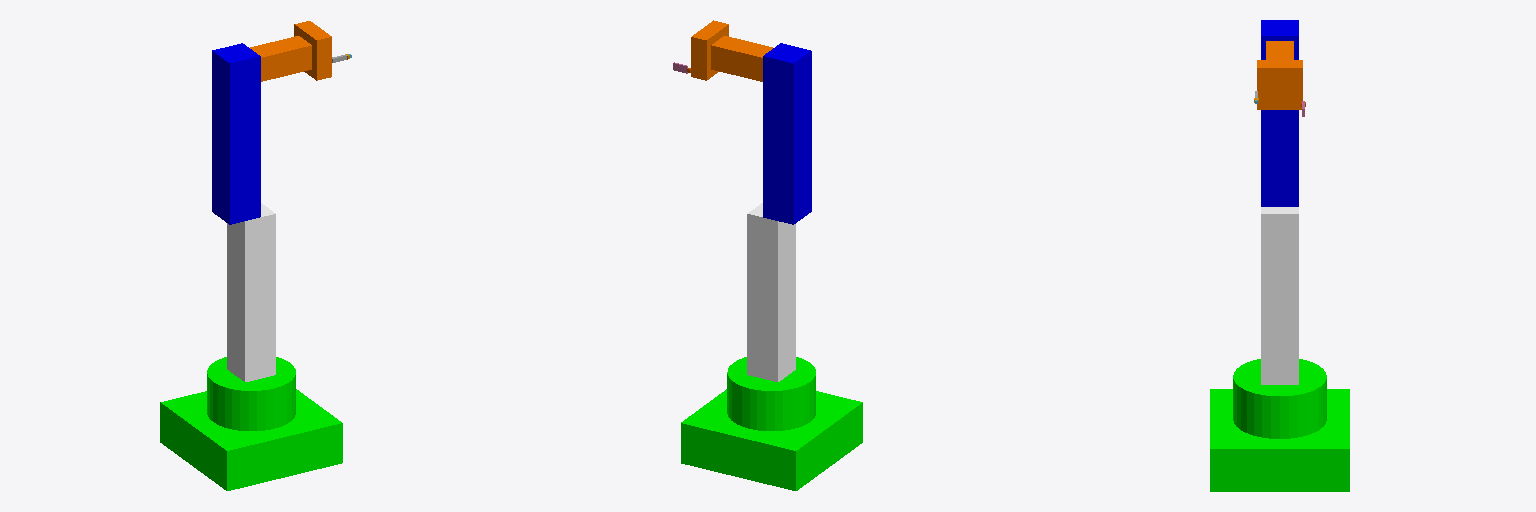
The robot description file, URDF, robot "robot":
<?xml version='1.0' encoding='utf-8'?>
<robot name="robot">
  <link name="base_link">
    <visual>
      <origin xyz="0 0 0.125" rpy="0 0 0" />
      <geometry>
        <box size="0.75 0.75 0.25" />
      </geometry>
      <material name="green" />
    </visual>
    <visual>
      <origin xyz="0 0 0.375" rpy="0 0 0" />
      <geometry>
        <cylinder length="0.25" radius="0.25" />
      </geometry>
      <material name="green">
        <color rgba="0 1 0 1" />
      </material>
    </visual>
    <collision>
      <geometry>
        <box size="0.75 0.75 0.5" />
      </geometry>
    </collision>
    <inertial>
      <mass value="0.5" />
      <inertia ixx="0.034" ixy="0.0" ixz="0.0" iyy="0.034" iyz="0.0" izz="0.034" />
    </inertial>
  </link>
  <link name="support_link">
    <visual>
      <origin xyz="0 0 0.5" rpy="0 0 0" />
      <geometry>
        <box size="0.2 0.2 1" />
      </geometry>
      <material name="white">
        <color rgba="1 1 1 1" />
      </material>
    </visual>
    <collision>
      <geometry>
        <box size="0.2 0.2 1" />
      </geometry>
    </collision>
    <inertial>
      <mass value="0.1" />
      <inertia ixx="0.01" ixy="0.0" ixz="0.0" iyy="0.01" iyz="0.0" izz="0.01" />
    </inertial>
  </link>
  <joint name="support_joint" type="continuous">
    <origin xyz="0 0 0.5" rpy="0 0 0" />
    <parent link="base_link" />
    <child link="support_link" />
    <axis xyz="0 0 1" />
  </joint>
  <link name="arm_link">
    <visual>
      <origin xyz="0 0 0.5" rpy="0 0 0" />
      <geometry>
        <box size="0.2 0.2 1" />
      </geometry>
      <material name="blue">
        <color rgba="0 0 1 1" />
      </material>
    </visual>
    <collision>
      <geometry>
        <box size="0.2 0.2 1" />
      </geometry>
    </collision>
    <inertial>
      <mass value="0.1" />
      <inertia ixx="0.01" ixy="0.0" ixz="0.0" iyy="0.01" iyz="0.0" izz="0.01" />
    </inertial>
  </link>
  <joint name="arm_joint" type="revolute">
    <origin xyz="-0.1 0 1" rpy="0 0 0" />
    <parent link="support_link" />
    <child link="arm_link" />
    <axis xyz="0 1 0" />
    <limit lower="-3.14" upper="3.14" effort="1.0" velocity="1.0" />
  </joint>
  <link name="wrist_link">
    <visual>
      <origin xyz="0 0 0.25" rpy="0 0 0" />
      <geometry>
        <box size="0.15 0.15 0.5" />
      </geometry>
      <material name="orange">
        <color rgba="1 0.5 0 1" />
      </material>
    </visual>
    <collision>
      <geometry>
        <box size="0.15 0.15 0.5" />
      </geometry>
    </collision>
    <inertial>
      <mass value="0.1" />
      <inertia ixx="0.01" ixy="0.0" ixz="0.0" iyy="0.01" iyz="0.0" izz="0.01" />
    </inertial>
  </link>
  <joint name="wrist_joint" type="fixed">
    <origin xyz="0 0 0.9" rpy="0 1.571 0" />
    <parent link="arm_link" />
    <child link="wrist_link" />
  </joint>
  <link name="palm_link">
    <visual>
      <origin xyz="0 0 0.05" rpy="0 0 0" />
      <geometry>
        <box size="0.25 0.25 0.1" />
      </geometry>
      <material name="orange" />
    </visual>
    <collision>
      <geometry>
        <box size="0.25 0.25 0.1" />
      </geometry>
    </collision>
    <inertial>
      <mass value="0.1" />
      <inertia ixx="0.01" ixy="0.0" ixz="0.0" iyy="0.01" iyz="0.0" izz="0.01" />
    </inertial>
  </link>
  <joint name="palm_joint" type="fixed">
    <origin xyz="0 0 0.45" rpy="0 0 0" />
    <parent link="wrist_link" />
    <child link="palm_link" />
  </joint>
  <link name="finger_link_0_0">
    <visual>
      <origin xyz="0 0 0.011" rpy="0 0 0" />
      <geometry>
        <box size="0.021 0.023 0.022" />
      </geometry>
    </visual>
    <collision>
      <geometry>
        <box size="0.021 0.023 0.022" />
      </geometry>
    </collision>
    <inertial>
      <mass value="0.003" />
      <inertia ixx="0.0" iyy="0.0" izz="0.0" ixy="0" ixz="0" iyz="0" />
    </inertial>
  </link>
  <joint name="finger_joint_palm_link_to_finger_link_0_0" type="revolute">
    <origin xyz="0.085 0.125 0.1" rpy="0 0 0" />
    <parent link="palm_link" />
    <child link="finger_link_0_0" />
    <axis xyz="-1.0 0.0 0.0" />
    <limit lower="-3.142" upper="3.142" effort="10" velocity="10" />
  </joint>
  <link name="finger_link_0_1">
    <visual>
      <origin xyz="0 0 0.0465" rpy="0 0 0" />
      <geometry>
        <box size="0.045 0.012 0.093" />
      </geometry>
    </visual>
    <collision>
      <geometry>
        <box size="0.045 0.012 0.093" />
      </geometry>
    </collision>
    <inertial>
      <mass value="0.015" />
      <inertia ixx="0.0" iyy="0.0" izz="0.0" ixy="0" ixz="0" iyz="0" />
    </inertial>
  </link>
  <joint name="finger_joint_finger_link_0_0_to_finger_link_0_1" type="revolute">
    <origin xyz="0.0 0.0 0.022" rpy="0 0 0" />
    <parent link="finger_link_0_0" />
    <child link="finger_link_0_1" />
    <axis xyz="1.0 0.0 0.0" />
    <limit lower="-3.142" upper="3.142" effort="10" velocity="10" />
  </joint>
  <link name="finger_link_1_0">
    <visual>
      <origin xyz="0 0 0.046" rpy="0 0 0" />
      <geometry>
        <box size="0.026 0.019 0.092" />
      </geometry>
    </visual>
    <collision>
      <geometry>
        <box size="0.026 0.019 0.092" />
      </geometry>
    </collision>
    <inertial>
      <mass value="0.014" />
      <inertia ixx="0.0" iyy="0.0" izz="0.0" ixy="0" ixz="0" iyz="0" />
    </inertial>
  </link>
  <joint name="finger_joint_palm_link_to_finger_link_1_0" type="revolute">
    <origin xyz="0.022 -0.125 0.1" rpy="0 0 0" />
    <parent link="palm_link" />
    <child link="finger_link_1_0" />
    <axis xyz="1.0 0.0 0.0" />
    <limit lower="-3.142" upper="3.142" effort="10" velocity="10" />
  </joint>
  <link name="finger_link_1_1">
    <visual>
      <origin xyz="0 0 0.008" rpy="0 0 0" />
      <geometry>
        <box size="0.021 0.027 0.016" />
      </geometry>
    </visual>
    <collision>
      <geometry>
        <box size="0.021 0.027 0.016" />
      </geometry>
    </collision>
    <inertial>
      <mass value="0.003" />
      <inertia ixx="0.0" iyy="0.0" izz="0.0" ixy="0" ixz="0" iyz="0" />
    </inertial>
  </link>
  <joint name="finger_joint_finger_link_1_0_to_finger_link_1_1" type="revolute">
    <origin xyz="0.0 0.0 0.092" rpy="0 0 0" />
    <parent link="finger_link_1_0" />
    <child link="finger_link_1_1" />
    <axis xyz="0.0 1.0 0.0" />
    <limit lower="-3.142" upper="3.142" effort="10" velocity="10" />
  </joint>
  <link name="finger_link_1_2">
    <visual>
      <origin xyz="0 0 0.007" rpy="0 0 0" />
      <geometry>
        <box size="0.019 0.013 0.014" />
      </geometry>
    </visual>
    <collision>
      <geometry>
        <box size="0.019 0.013 0.014" />
      </geometry>
    </collision>
    <inertial>
      <mass value="0.001" />
      <inertia ixx="0.0" iyy="0.0" izz="0.0" ixy="0" ixz="0" iyz="0" />
    </inertial>
  </link>
  <joint name="finger_joint_finger_link_1_1_to_finger_link_1_2" type="revolute">
    <origin xyz="0.0 0.0 0.016" rpy="0 0 0" />
    <parent link="finger_link_1_1" />
    <child link="finger_link_1_2" />
    <axis xyz="1.0 0.0 0.0" />
    <limit lower="-3.142" upper="3.142" effort="10" velocity="10" />
  </joint>
</robot>

--- What the picture shows (computed from the rendered views, not written in the file) ---
3 views of the same robot in one strip: view 1: azimuth 30°, elevation 25°; view 2: azimuth 150°, elevation 25°; view 3: azimuth 270°, elevation 25° (orthographic).
Robot: robot — 10 links, 9 joints (6 revolute, 1 continuous, 2 fixed); root link base_link; default pose: every joint at zero.
Links seen in each view (by area): view 1: base_link, arm_link, support_link, wrist_link, palm_link; view 2: base_link, arm_link, support_link, wrist_link, palm_link; view 3: base_link, support_link, arm_link, palm_link, wrist_link.
Boxes of the visible links, x1,y1,x2,y2 form: base_link: (160,357,342,490); arm_link: (212,43,260,224); support_link: (227,203,275,381); wrist_link: (250,36,311,81); palm_link: (294,21,331,80); base_link: (681,357,862,490); arm_link: (763,43,811,224); support_link: (747,203,795,381); wrist_link: (711,36,772,81); palm_link: (691,20,728,80); base_link: (1210,359,1349,491); support_link: (1261,207,1298,384); arm_link: (1261,20,1298,206); palm_link: (1257,60,1302,109); wrist_link: (1266,41,1293,59).
Bounding box of the posed robot: 0.947 × 0.75 × 2.52 m (x, y, z).
Geometry: primitives only (box / cylinder / sphere), no mesh files.
